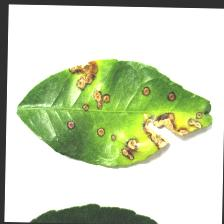canker: (54, 55, 204, 166)
